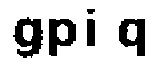g: (14, 15, 44, 60)
i: (84, 8, 101, 52)
p: (47, 14, 79, 60)
q: (113, 14, 151, 60)
